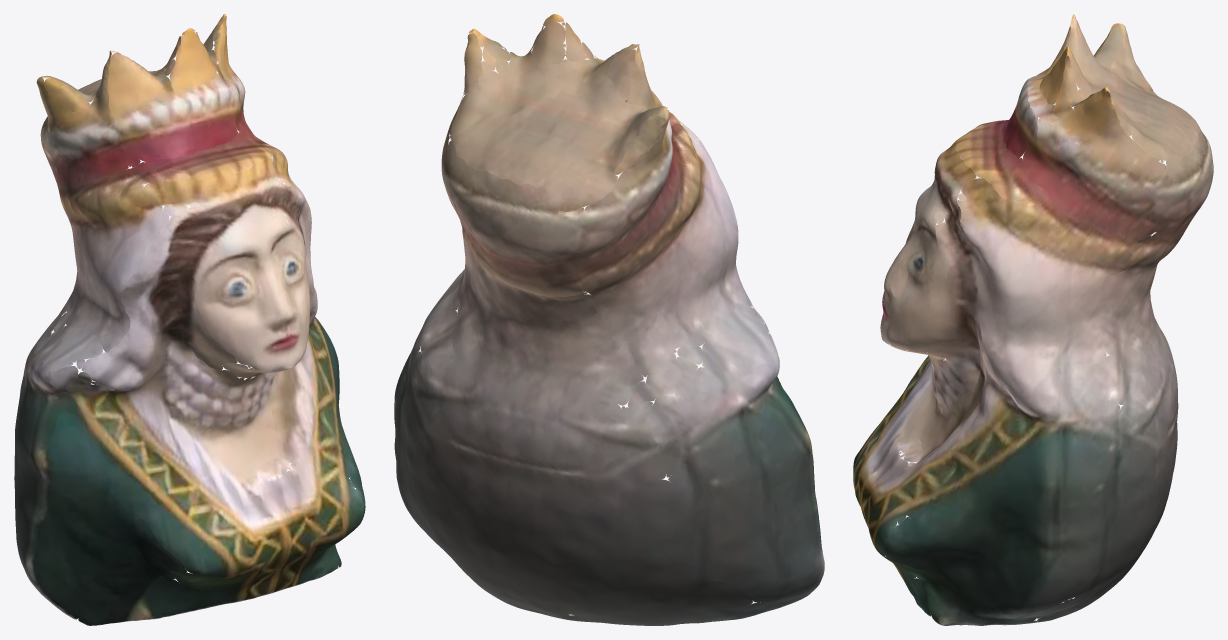
The model's file is calliope.glb.
3 renders of one model, left to right at view 1: azimuth 30°, elevation 25°; view 2: azimuth 150°, elevation 25°; view 3: azimuth 270°, elevation 25°, orthographic. The views are drawn at different scales.
Parts seen in each view (by area): view 1: calliope_Figurehead; view 2: calliope_Figurehead; view 3: calliope_Figurehead.
Boxes of the visible parts, bbox=[...] form: calliope_Figurehead: bbox=[14, 14, 365, 625]; calliope_Figurehead: bbox=[394, 14, 824, 625]; calliope_Figurehead: bbox=[853, 14, 1213, 625].
Bounding box in the file's own units: 1.34 × 1.99 × 1.19.
1 material, 1 textured.
